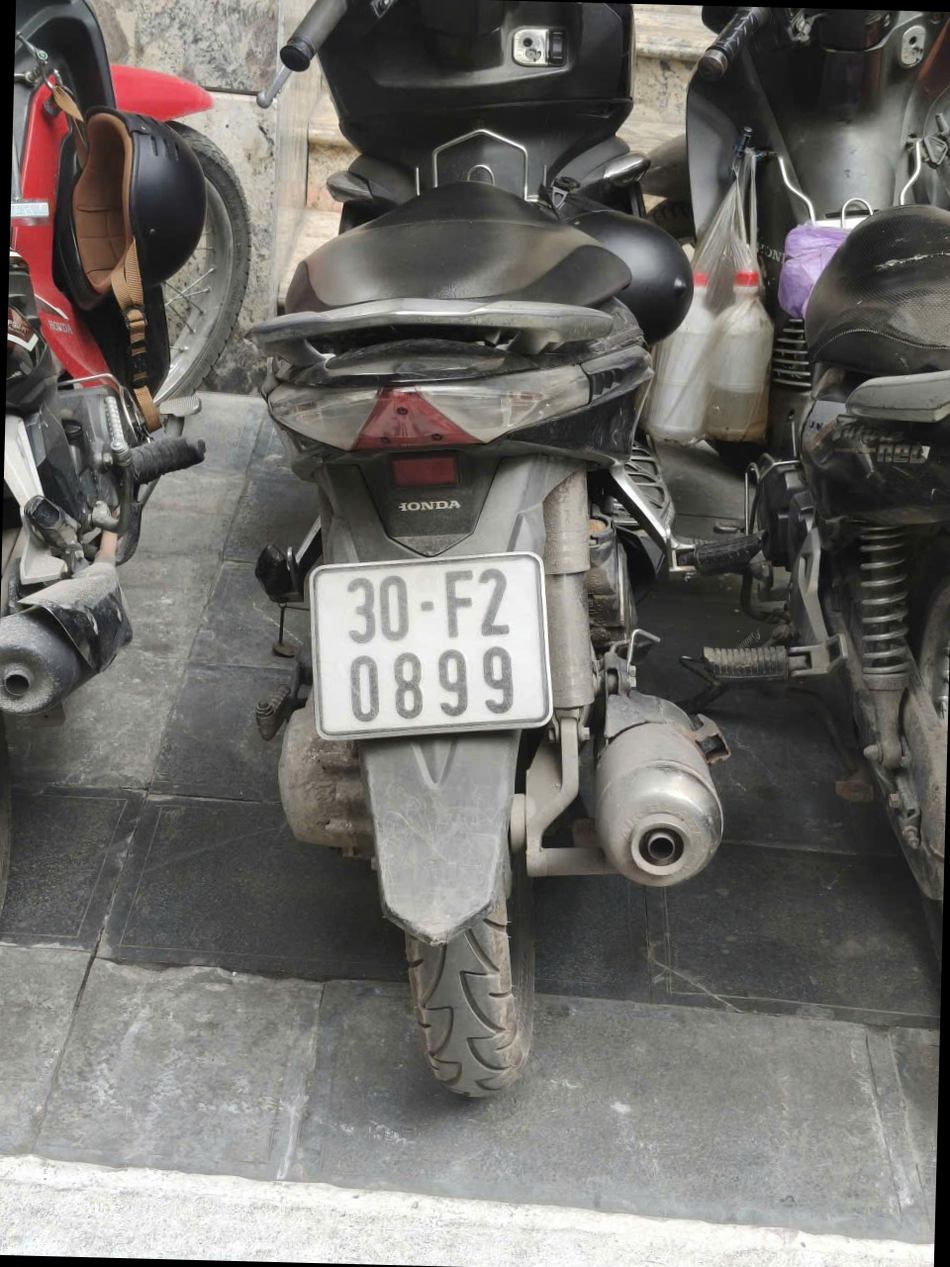plate: (105, 777, 268, 814)
